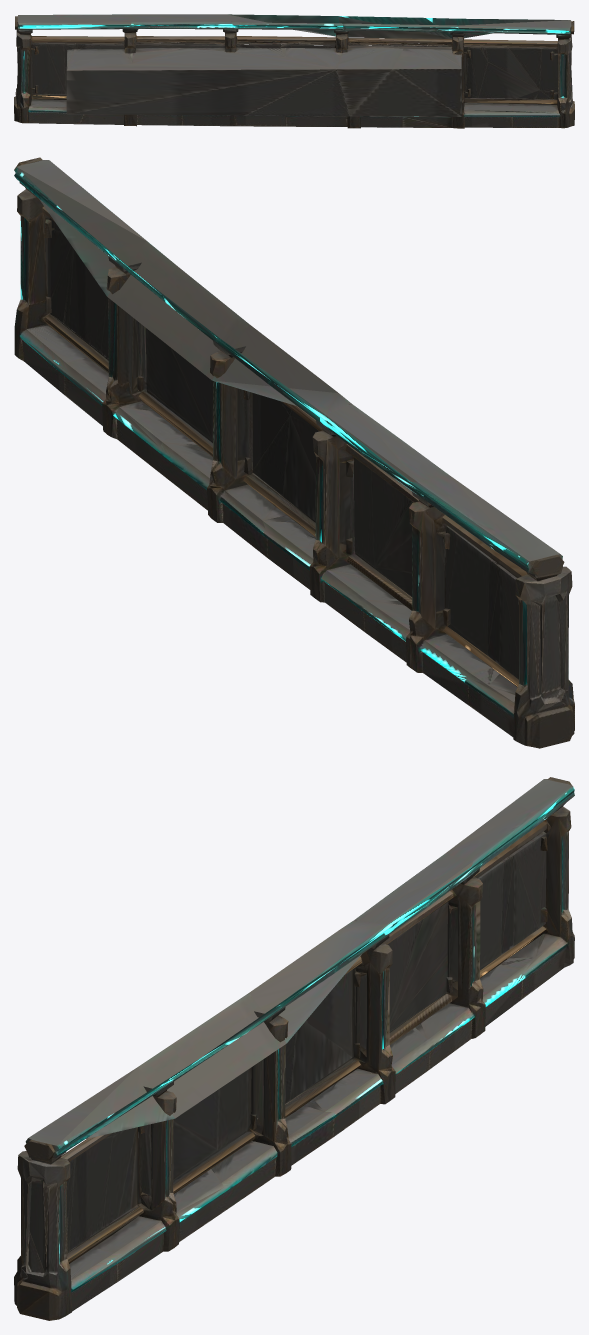
The picture shows the model from 3 angles, top to bottom: view 1: azimuth 30°, elevation 25°; view 2: azimuth 150°, elevation 25°; view 3: azimuth 270°, elevation 25°; orthographic projection. The views are drawn at different scales.
Parts seen in each view (by area): view 1: s07; view 2: s07; view 3: s07.
Boxes of the visible parts, x1,y1,x2,y2 form: s07: [14, 14, 574, 128]; s07: [14, 157, 574, 748]; s07: [14, 777, 574, 1320].
Size of the model in its own units: 6.4 by 1.4 by 4.07.
Materials: 1 (1 with a texture image).
